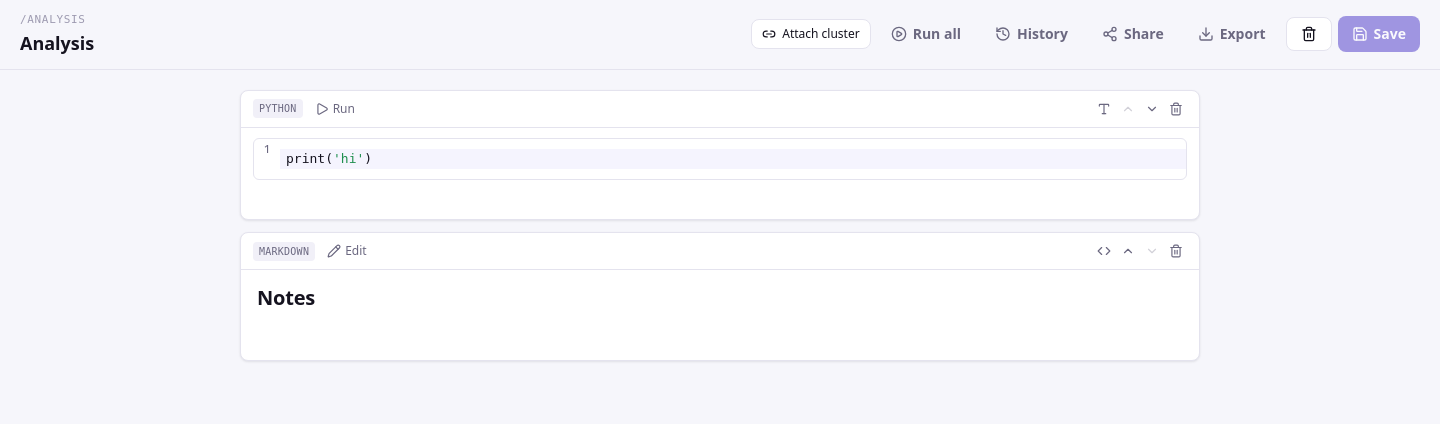
Scenario: NotebookEditor — cell editing › toggles a markdown cell between rendered and edit
Expected: the heading "Notes" is shown, [257,284,315,311]
// The header toggle for the markdown cell (rendered mode → "Edit markdown cell 2").
Click the button with aria-label "edit markdown cell 2" at point(347, 251), box [321,239,373,263]
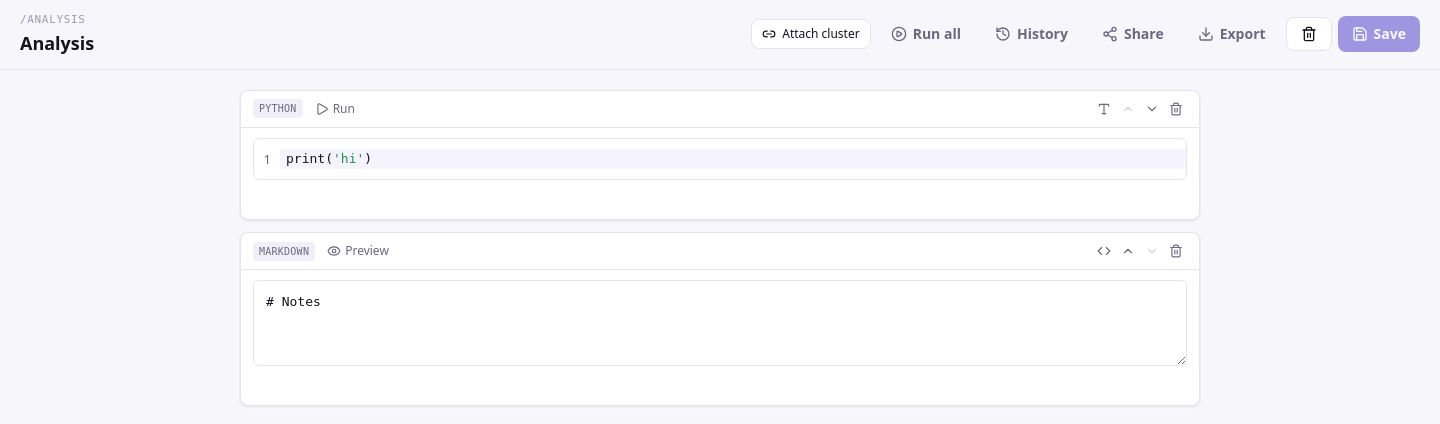
Now the text box named "markdown cell 2" is shown, box [253,280,1187,366]
